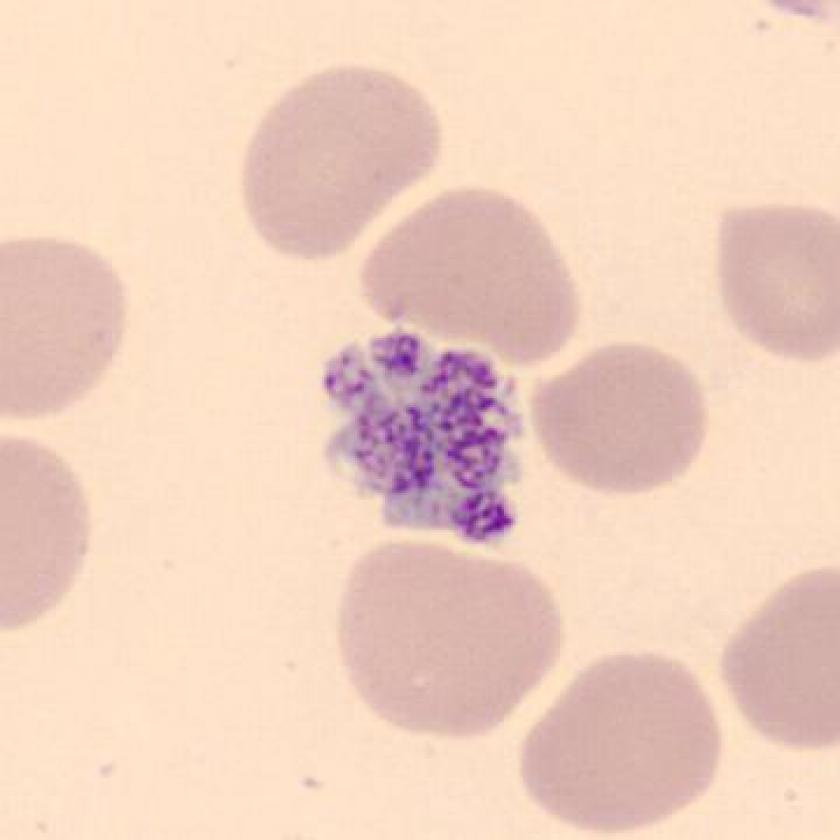platelets: (319, 325, 522, 547)
